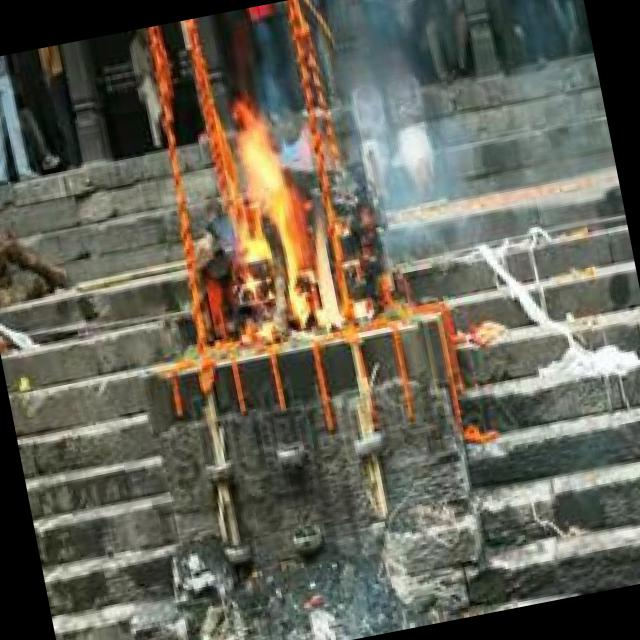Fire: (207, 96, 351, 347)
